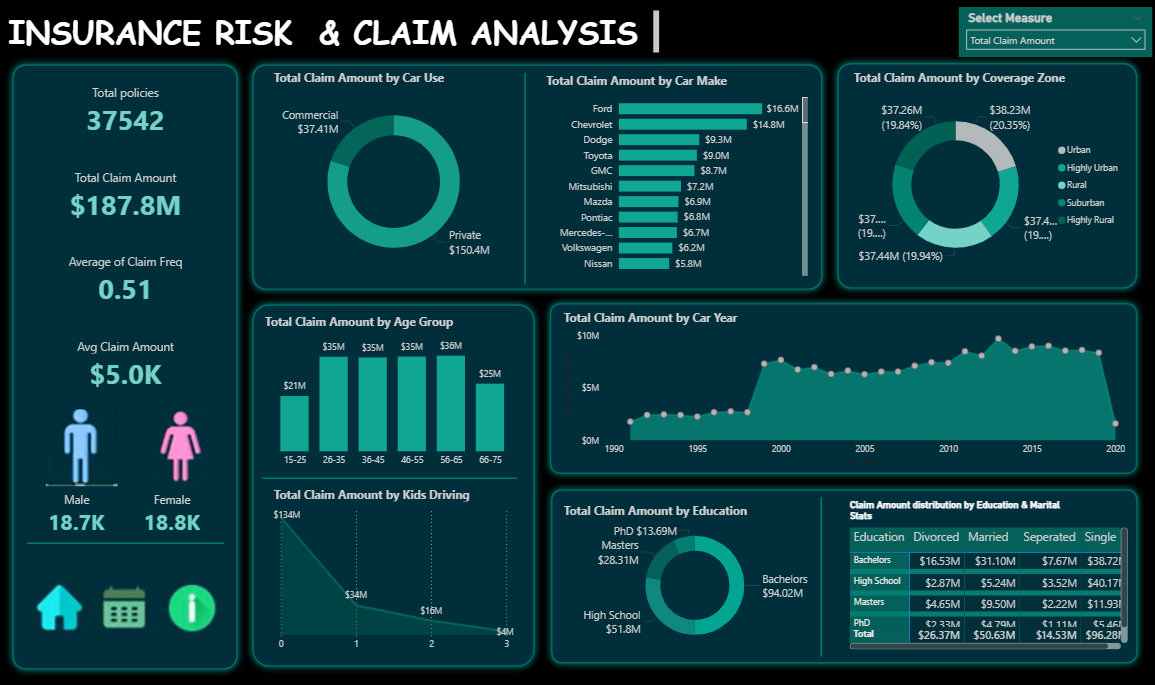

Layout of this report page (visuals, bound fields, positions):
{"tool":"powerbi","page":{"name":"Page 1","canvas":[1600,950],"ordinal":0},"visuals":[{"type":"textbox","box":[13.7,13.7,902.2,68.6],"z":0},{"type":"shape","box":[13.7,82.3,329.3,850.8],"z":1000},{"type":"cardVisual","fields":{"Data":["insurance_data_car.Total policies","insurance_data_car.Total Claim Amount","Avg(insurance_data_car.Claim Freq)","insurance_data_car.Avg Claim Amount"]},"box":[43.8,103.3,269.6,457],"z":2000},{"type":"cardVisual","fields":{"Data":["insurance_data_car.Male count","insurance_data_car.Female count"]},"box":[50.9,654.2,253.1,109.8],"z":3000},{"type":"image","box":[62.1,560.3,115,115],"z":4000},{"type":"image","box":[197.4,560.3,114.6,114.6],"z":5000},{"type":"slicer","fields":{"Values":["Select Measure.Select Measure"]},"box":[1322.8,14.3,265.8,68.5],"z":6000},{"type":"shape","box":[343.8,82.8,802.3,329.5],"z":7000},{"type":"donutChart","fields":{"Y":["insurance_data_car.Total policies"],"Category":["insurance_data_car.Car Use"]},"box":[377.4,99.5,339.6,286.4],"z":8000},{"type":"clusteredBarChart","fields":{"Y":["insurance_data_car.Total policies"],"Category":["insurance_data_car.Car Make"]},"box":[751.3,103.5,369.3,284.9],"z":9000},{"type":"shape","box":[1146.1,81.2,431.4,329.5],"z":10000},{"type":"donutChart","fields":{"Y":["insurance_data_car.Total policies"],"Category":["insurance_data_car.Coverage Zone"]},"box":[1173.2,100.3,382,294.5],"z":11000},{"type":"shape","box":[343.8,412.3,407.5,517.4],"z":12000},{"type":"clusteredColumnChart","fields":{"Y":["insurance_data_car.Total policies"],"Category":["insurance_data_car.Age Group"]},"box":[364.5,434.6,361.4,219.7],"z":13000},{"type":"ribbonChart","fields":{"Y":["insurance_data_car.Total policies"],"Category":["insurance_data_car.Kids Driving"]},"box":[367.7,671.8,359.8,240.4],"z":14000},{"type":"shape","box":[751.3,410.7,826.2,254.7],"z":15000},{"type":"areaChart","fields":{"Y":["insurance_data_car.Total policies"],"Category":["insurance_data_car.Car Year"]},"box":[775.3,428.8,780.5,219.6],"z":16000},{"type":"shape","box":[753,665.5,825,259],"z":17000},{"type":"pieChart","fields":{"Y":["insurance_data_car.Total policies"],"Category":["insurance_data_car.Education"]},"box":[775.3,693,370.5,207.6],"z":18000},{"type":"pivotTable","title":"Claim Amount distribution by Education & Marital Stats","fields":{"Rows":["insurance_data_car.Education"],"Columns":["insurance_data_car.Marital Status"],"Values":["insurance_data_car.Total Claim Amount"]},"box":[1168.1,689.5,391.1,211],"z":19000},{"type":"shape","box":[693,104.6,68.6,289.9],"z":20000},{"type":"shape","box":[1099.5,686.1,68.6,219.6],"z":21000},{"type":"shape","box":[367.1,631.2,349.9,58.3],"z":22000},{"type":"shape","box":[44.6,720.4,269.3,58.3],"z":23000}]}

Visuals, with their boxes in screenshot pixels (x1, y1, x2, y2), scaled from the page's 1600x950 canvas onto the 1155x685 screenshot:
textbox: Rect(10, 10, 661, 59)
shape: Rect(10, 59, 248, 673)
cardVisual - insurance_data_car.Total policies x insurance_data_car.Total Claim Amount: Rect(32, 74, 226, 404)
cardVisual - insurance_data_car.Male count x insurance_data_car.Female count: Rect(37, 472, 219, 551)
image: Rect(45, 404, 128, 487)
image: Rect(142, 404, 225, 487)
slicer - Select Measure.Select Measure: Rect(955, 10, 1147, 60)
shape: Rect(248, 60, 827, 297)
donutChart - insurance_data_car.Total policies x insurance_data_car.Car Use: Rect(272, 72, 518, 278)
clusteredBarChart - insurance_data_car.Total policies x insurance_data_car.Car Make: Rect(542, 75, 809, 280)
shape: Rect(827, 59, 1139, 296)
donutChart - insurance_data_car.Total policies x insurance_data_car.Coverage Zone: Rect(847, 72, 1123, 285)
shape: Rect(248, 297, 542, 670)
clusteredColumnChart - insurance_data_car.Total policies x insurance_data_car.Age Group: Rect(263, 313, 524, 472)
ribbonChart - insurance_data_car.Total policies x insurance_data_car.Kids Driving: Rect(265, 484, 525, 658)
shape: Rect(542, 296, 1139, 480)
areaChart - insurance_data_car.Total policies x insurance_data_car.Car Year: Rect(560, 309, 1123, 468)
shape: Rect(544, 480, 1139, 667)
pieChart - insurance_data_car.Total policies x insurance_data_car.Education: Rect(560, 500, 827, 649)
"Claim Amount distribution by Education & Marital Stats" pivotTable: Rect(843, 497, 1126, 649)
shape: Rect(500, 75, 550, 284)
shape: Rect(794, 495, 843, 653)
shape: Rect(265, 455, 518, 497)
shape: Rect(32, 519, 227, 561)
